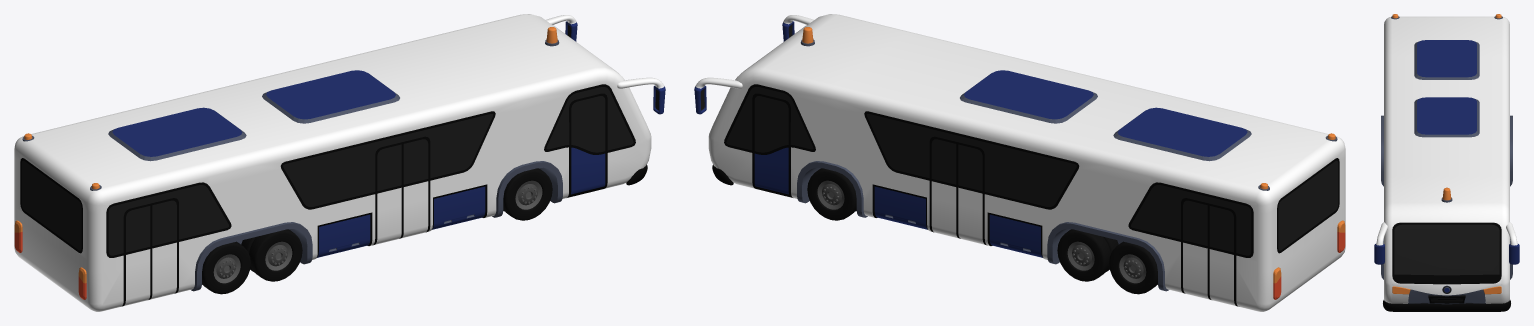
File: airport-passenger-bus.glb
3 views of the same model, side by side, from view 1: azimuth 30°, elevation 25°; view 2: azimuth 150°, elevation 25°; view 3: azimuth 270°, elevation 25° (orthographic). The views are drawn at different scales.
Parts seen in each view (by area): view 1: 20.PassengerBus_AIRPORT_0; view 2: 20.PassengerBus_AIRPORT_0; view 3: 20.PassengerBus_AIRPORT_0.
Boxes of the visible parts, bbox=[...] form: 20.PassengerBus_AIRPORT_0: bbox=[14, 14, 665, 311]; 20.PassengerBus_AIRPORT_0: bbox=[694, 14, 1345, 311]; 20.PassengerBus_AIRPORT_0: bbox=[1374, 14, 1519, 311].
Size of the model in its own units: 17.56 by 4.29 by 5.06.
Materials: 1 (1 with a texture image).
